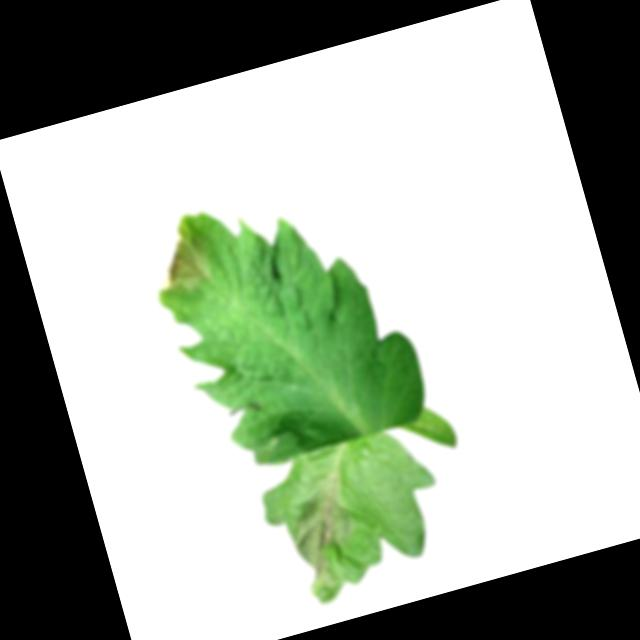Late_blight: (276, 479, 371, 599), (140, 223, 218, 301)
